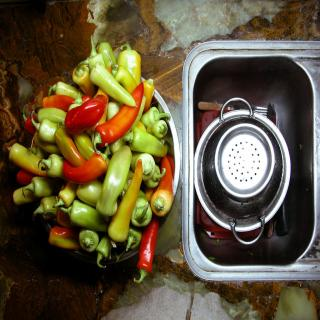Bell pepper: (64, 92, 106, 132)
